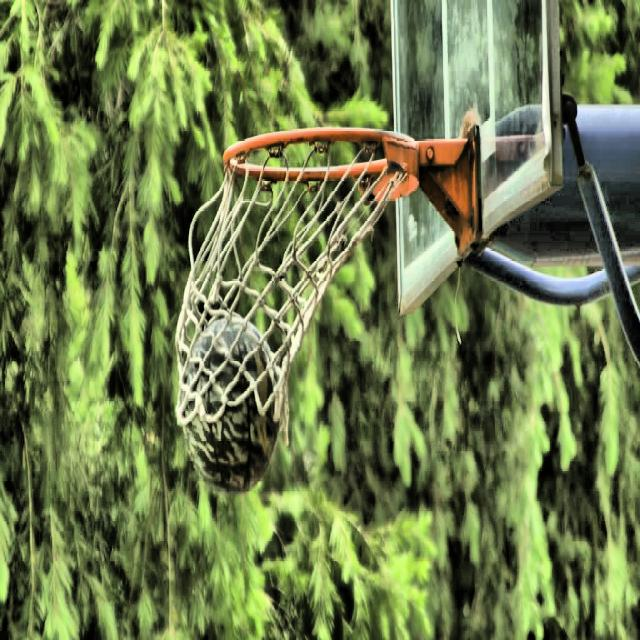rim: (192, 126, 410, 340)
